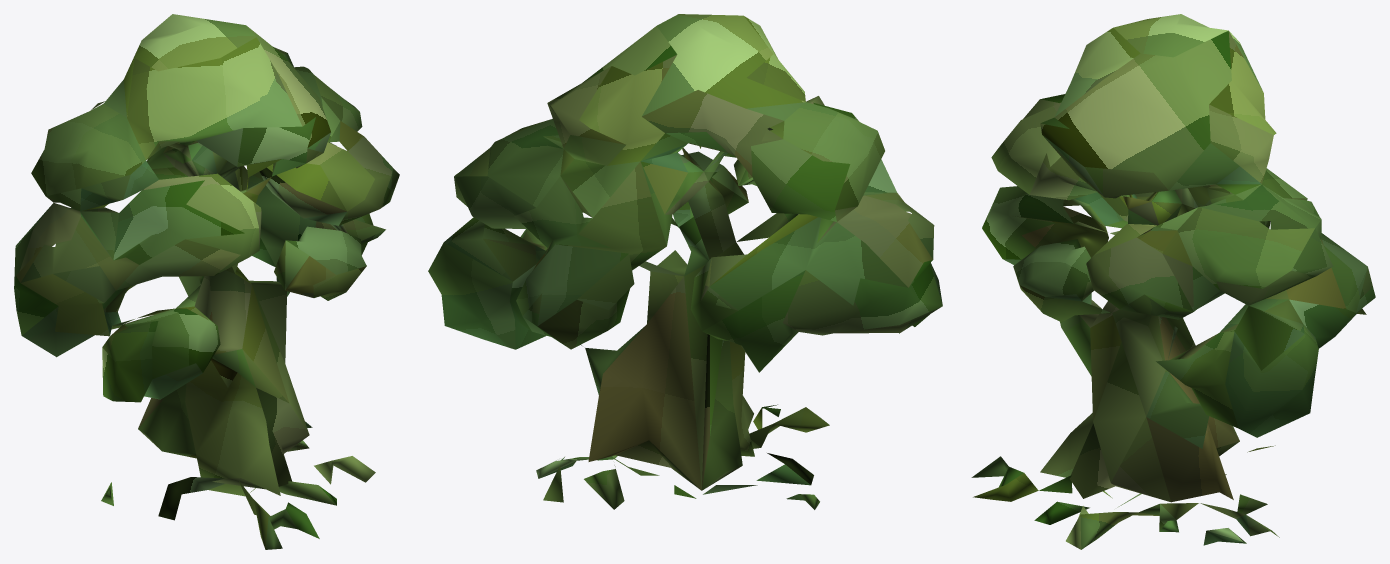
The model's file is tree_oak_shadow.glb.
3 views of the same model, side by side, from view 1: azimuth 30°, elevation 25°; view 2: azimuth 150°, elevation 25°; view 3: azimuth 270°, elevation 25° (orthographic). The views are drawn at different scales.
Visible parts, largest first — view 1: plant; view 2: plant; view 3: plant.
Boxes of the visible parts, bbox=[...] form: plant: bbox=[14, 14, 399, 549]; plant: bbox=[428, 14, 942, 509]; plant: bbox=[971, 14, 1375, 549].
Size of the model in its own units: 4.51 by 4.71 by 3.72.
Materials: 1 (1 with a texture image).
